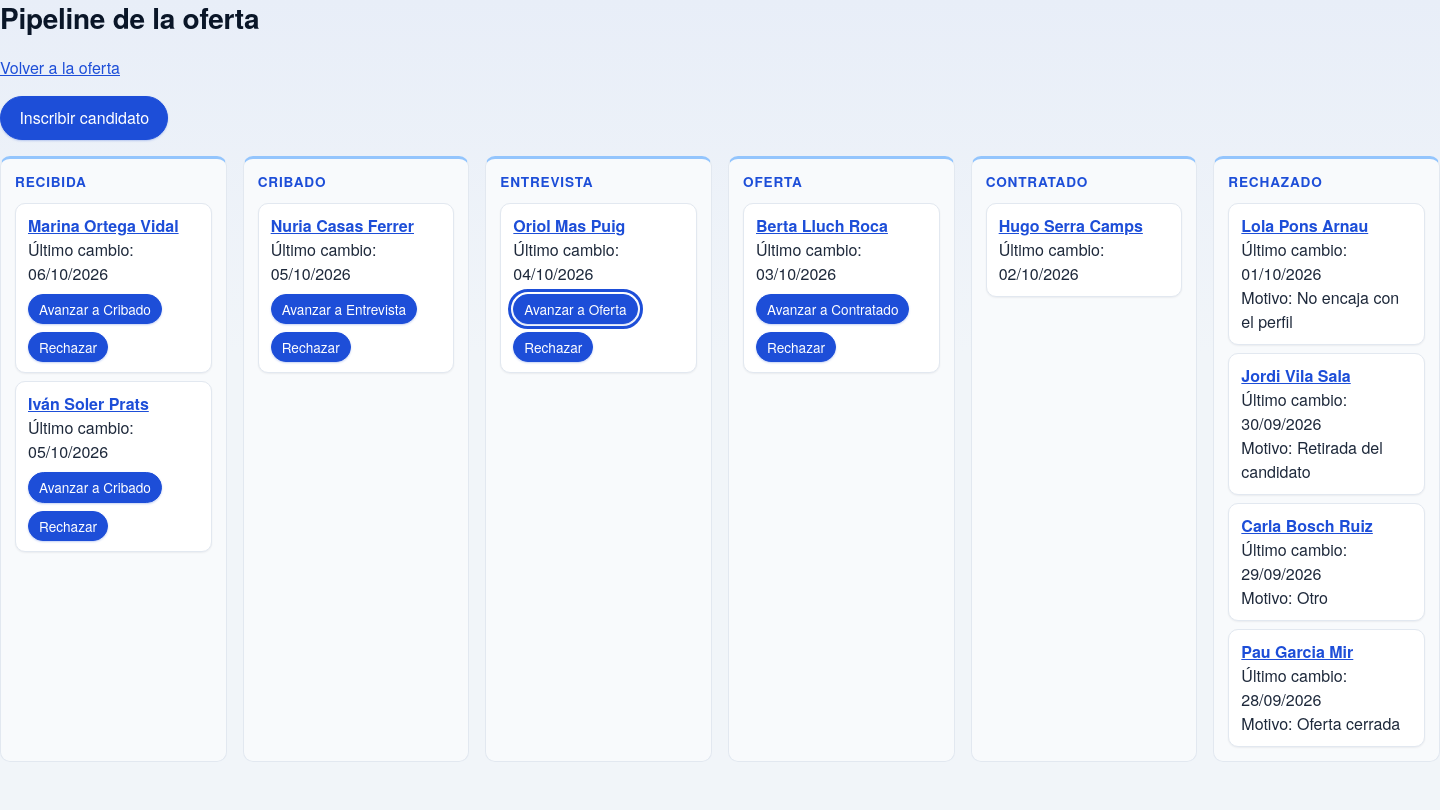
it: PipelineScreen: cambios de etapa frente a hostiles y dobles envíos › EC-35 (DT-06) un 200 de reintento es éxito
Click the button named "Avanzar a Oferta: Oriol Mas Puig".
click(575, 309)  # box [513,294,638,324]
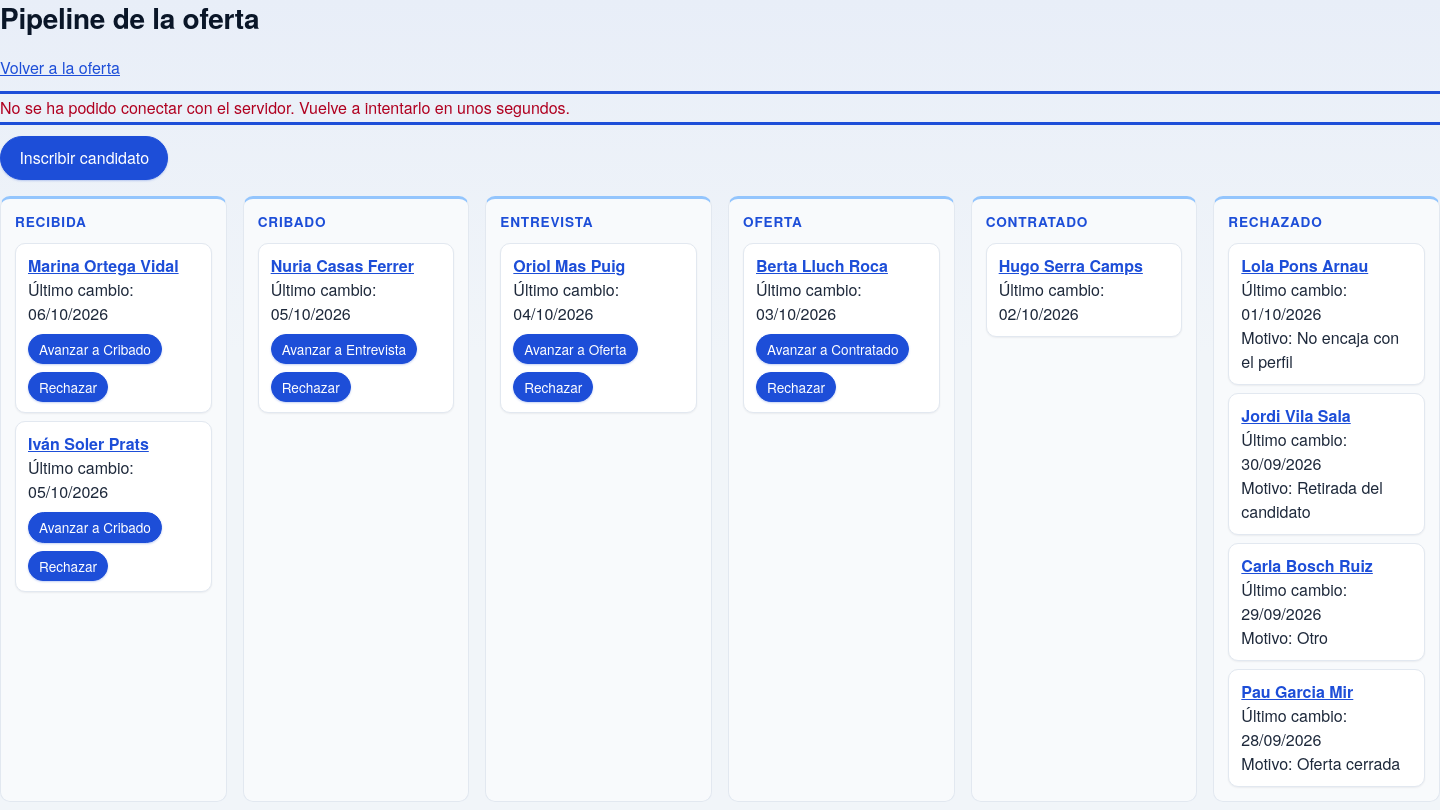
Now the message reads "No se ha podido conectar con el servidor. Vuelve a intentarlo en unos segundos.", box [0,96,570,119]
Click the button named "Avanzar a Oferta: Oriol Mas Puig".
click(575, 349)  # box [513,334,638,364]
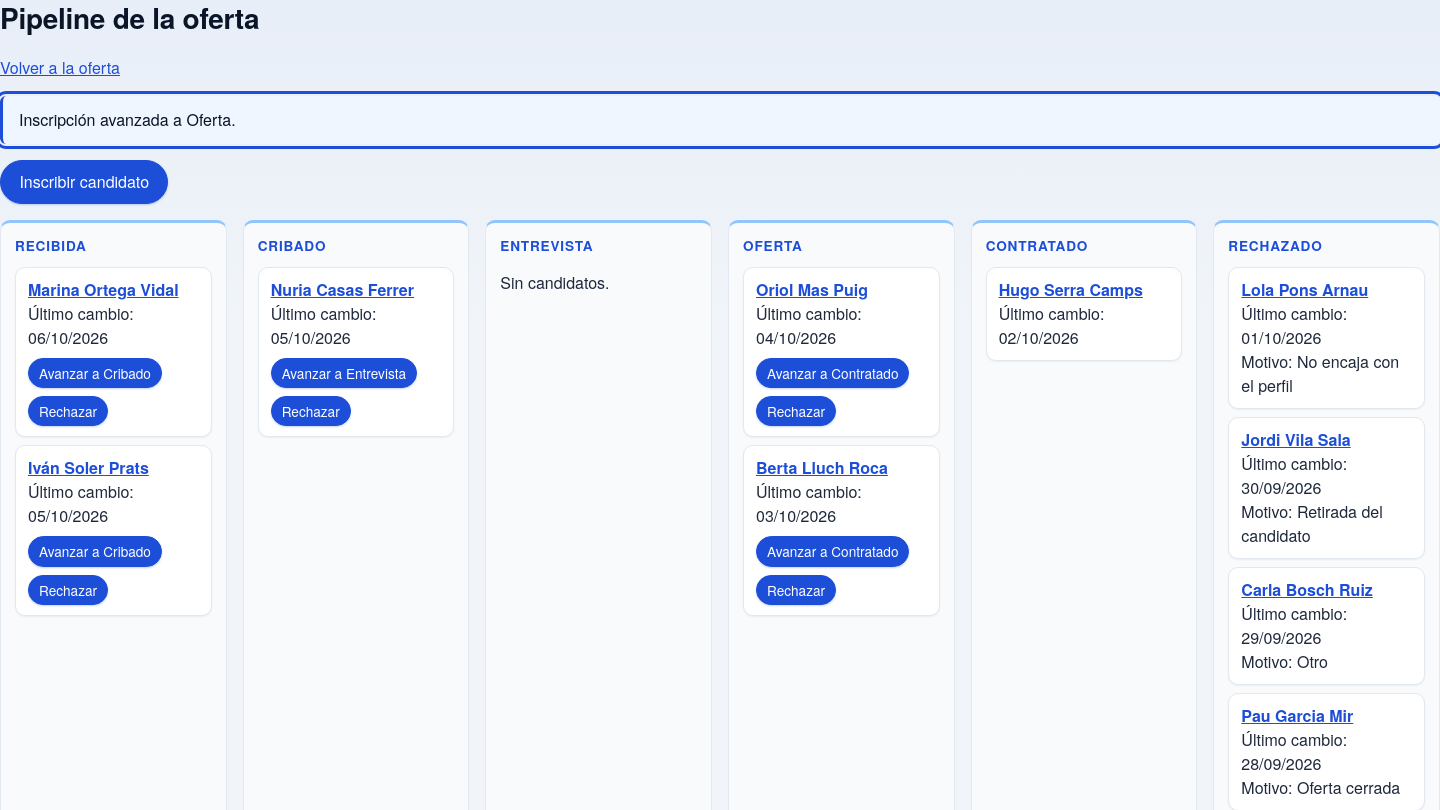
Expected: the link "Oriol Mas Puig" is shown, [756,278,868,301]
Now the message reads "Inscripción avanzada a Oferta.", box [19,108,236,131]
